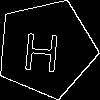H: (21, 23, 62, 72)
